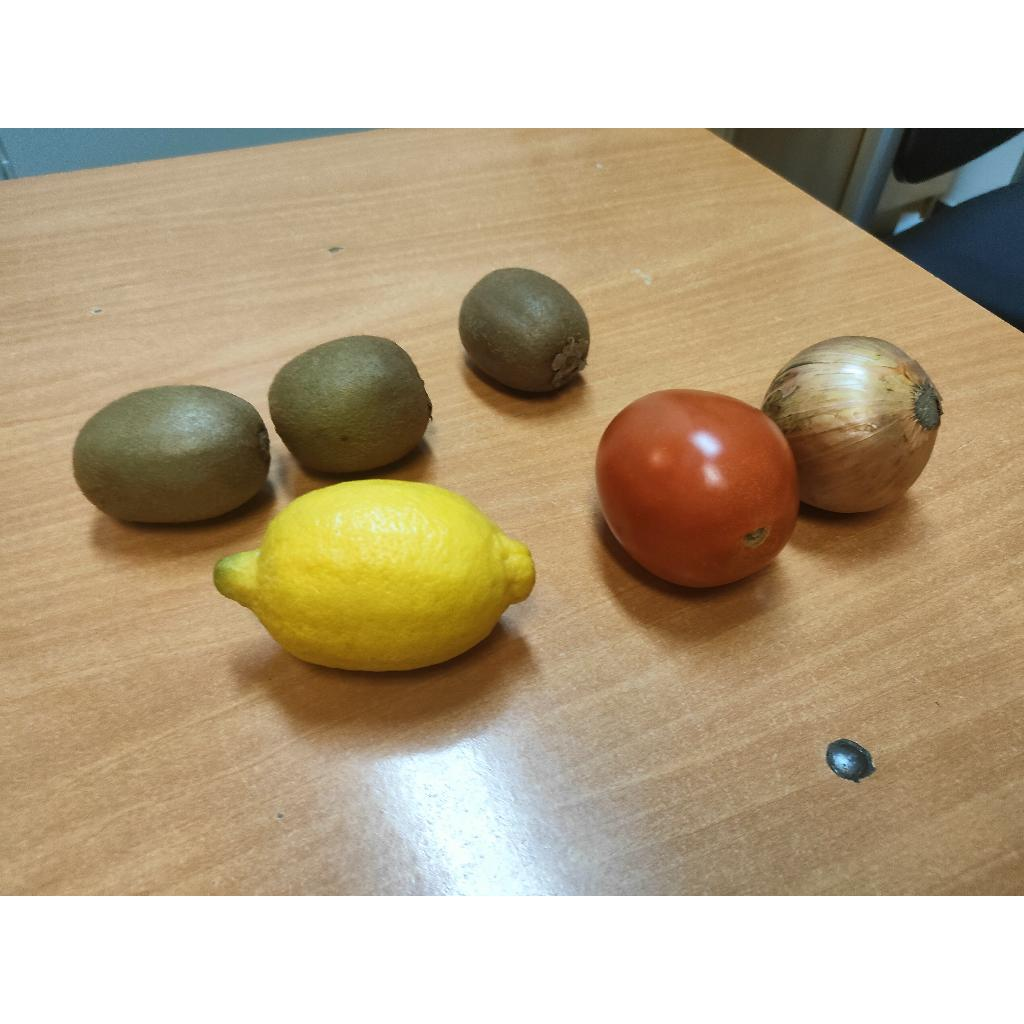kiwi: (214, 480, 536, 670), (74, 386, 270, 522), (268, 336, 432, 472), (458, 268, 590, 392)
